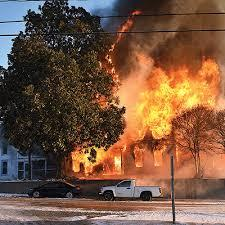fire: (135, 63, 219, 131), (75, 149, 119, 172)
